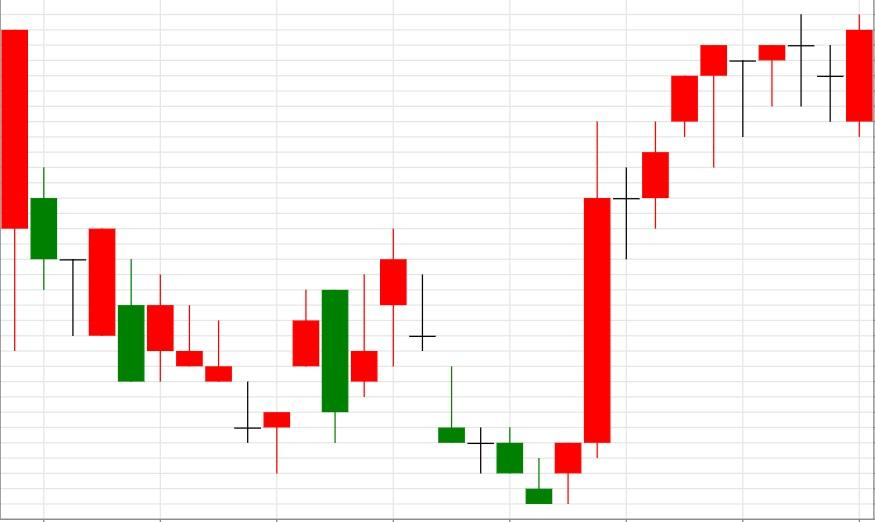bearish_engulfing_fall: (233, 288, 349, 474)
